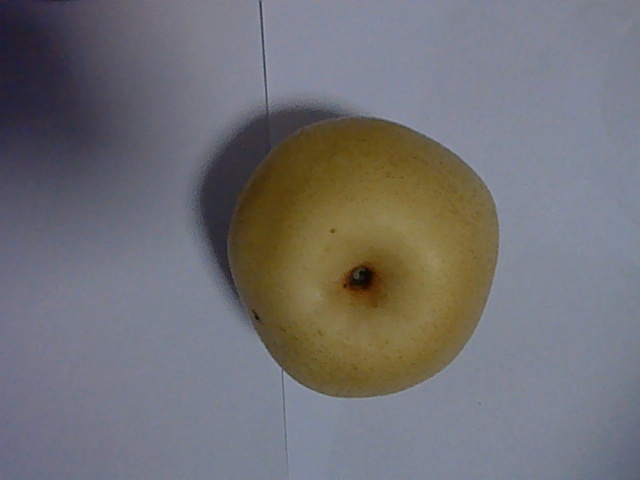pear: (229, 112, 499, 398)
